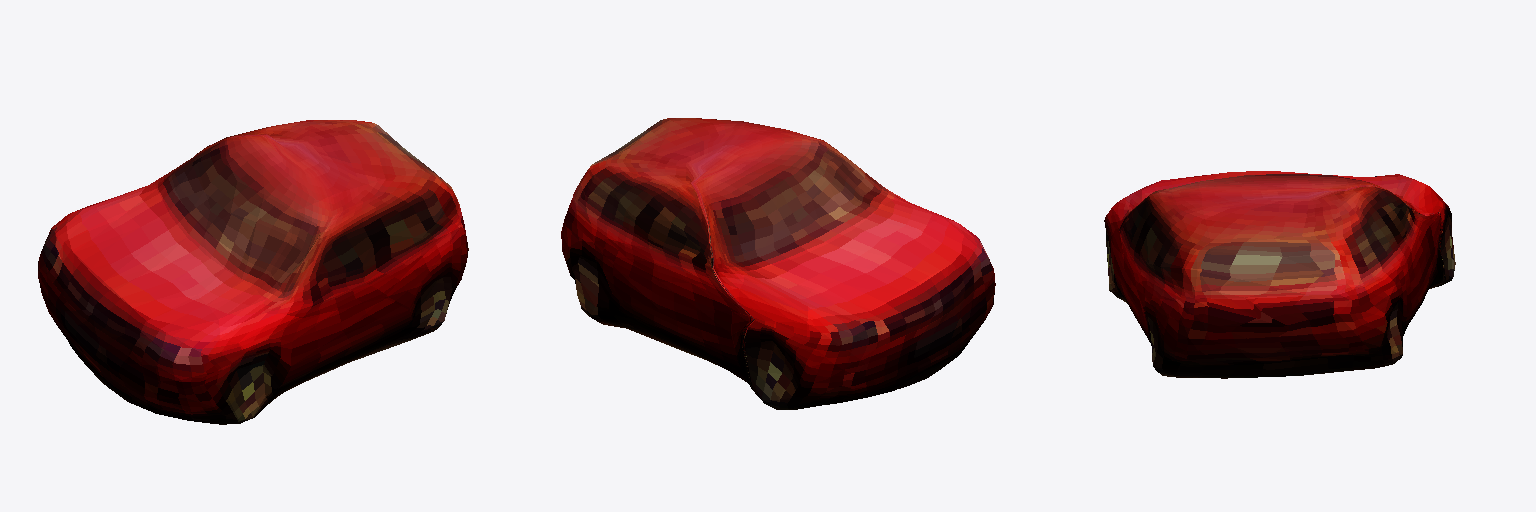
The picture shows the model from 3 angles: view 1: azimuth 30°, elevation 25°; view 2: azimuth 150°, elevation 25°; view 3: azimuth 270°, elevation 25°; orthographic projection.
Bounding box in the file's own units: 1 × 0.4879 × 0.876.
1 materials, 1 textured.